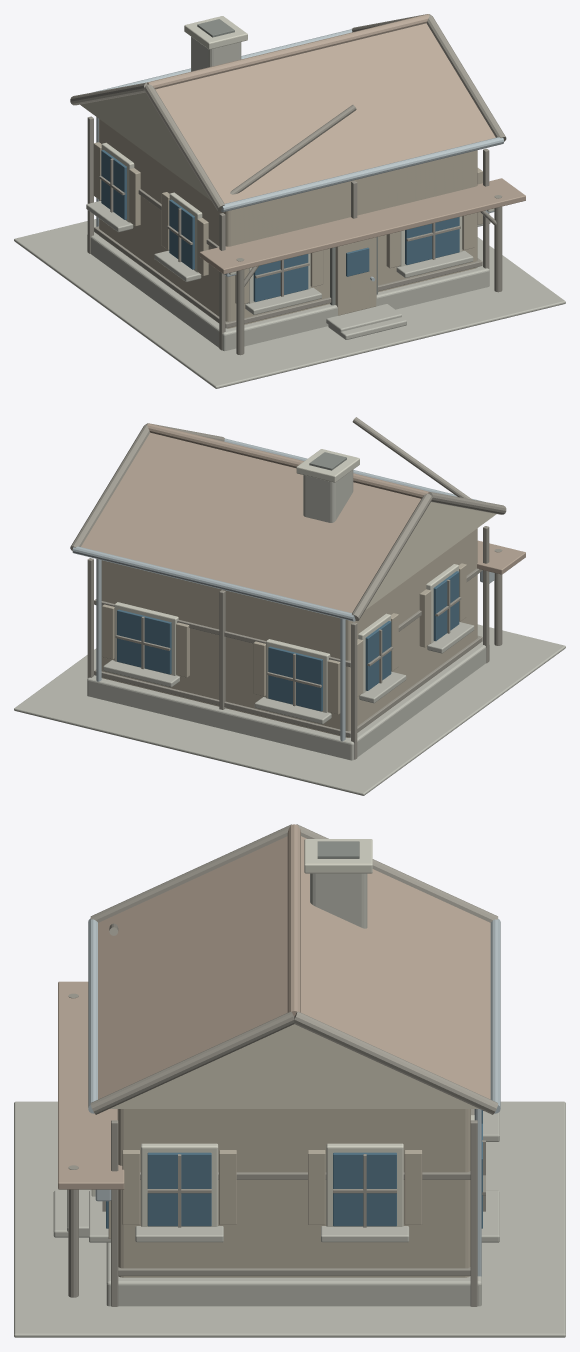
File: district_art_3.glb
3 renders of one model, top to bottom at view 1: azimuth 30°, elevation 25°; view 2: azimuth 150°, elevation 25°; view 3: azimuth 270°, elevation 25°, orthographic. The views are drawn at different scales.
Parts seen in each view (by area): view 1: roof, stone, wood, timber, glass, plaster, metal, trim, dark; view 2: roof, stone, wood, timber, glass, metal, plaster, trim; view 3: roof, stone, wood, timber, plaster, glass, trim, metal, dark.
Boxes of the visible parts, box(x1,y1,x2,y2) form: roof: box(147, 14, 525, 274); stone: box(14, 37, 565, 388); wood: box(93, 119, 482, 328); timber: box(70, 14, 506, 355); glass: box(101, 150, 459, 301); plaster: box(80, 92, 210, 200); metal: box(92, 29, 504, 281); trim: box(101, 16, 494, 303); dark: box(197, 19, 377, 305); roof: box(81, 423, 525, 612); stone: box(14, 470, 565, 795); wood: box(101, 528, 477, 737); timber: box(70, 417, 506, 759); glass: box(117, 571, 459, 711); metal: box(72, 438, 494, 741); plaster: box(365, 502, 496, 609); trim: box(114, 449, 458, 712); roof: box(58, 824, 490, 1189); stone: box(14, 873, 565, 1337); wood: box(108, 1109, 470, 1277); timber: box(68, 824, 498, 1306); plaster: box(109, 1024, 478, 1108); glass: box(106, 1110, 482, 1228); trim: box(91, 839, 474, 1226); metal: box(88, 918, 500, 1276); dark: box(317, 841, 359, 858).
Size of the model in its own units: 12.5 by 8.39 by 12.5.
